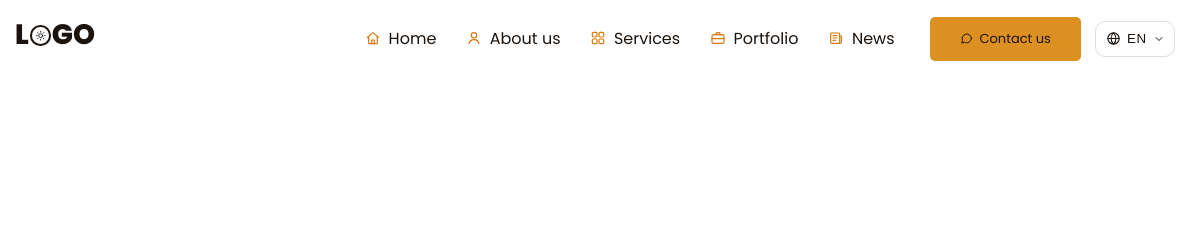
Scenario: Header › changes the language from the dropdown with the keyboard
The image size is (1202, 247).
Click the button with aria-label "Language: English" at (1135,39), box [1095,21,1175,57]
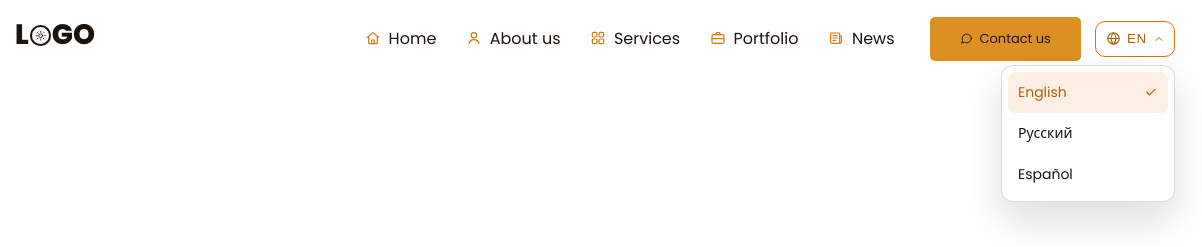
Click the option "Русский" at (1045,133), box [1018,123,1072,143]
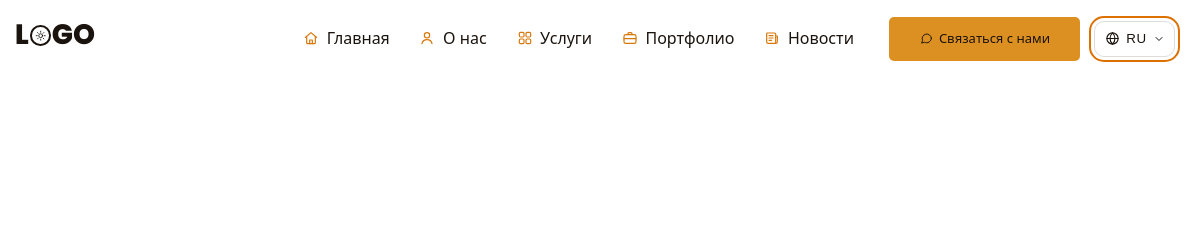
Now the link "Главная" is shown, box [303,27,390,50]
